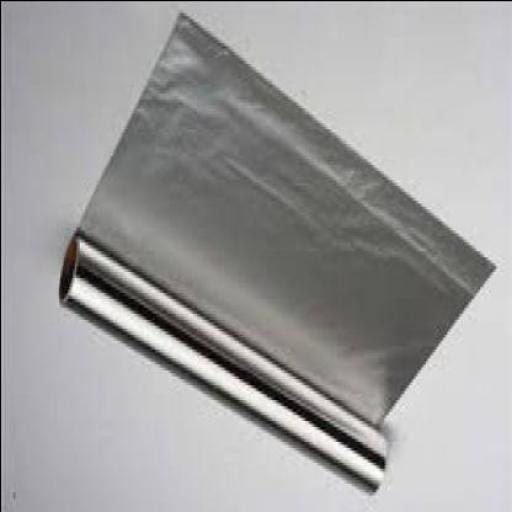metal: (58, 12, 495, 498)
